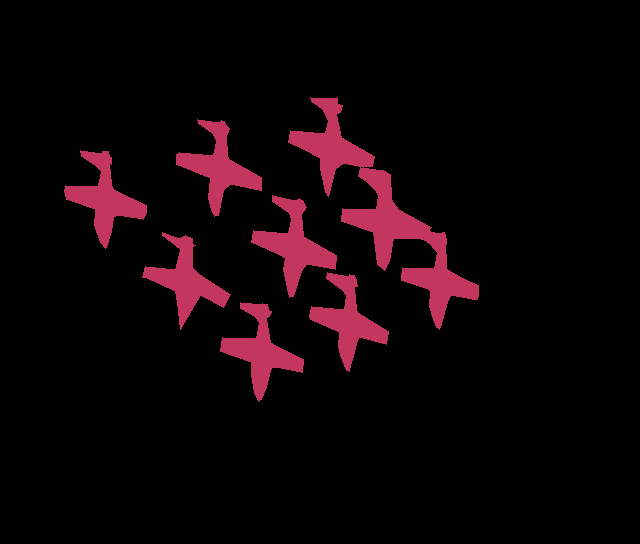Airplane: (341, 167, 432, 270), (142, 232, 231, 330), (288, 97, 375, 197), (251, 195, 336, 297), (176, 119, 261, 217), (220, 302, 303, 401), (64, 150, 146, 249), (309, 272, 388, 371), (401, 231, 479, 329)
